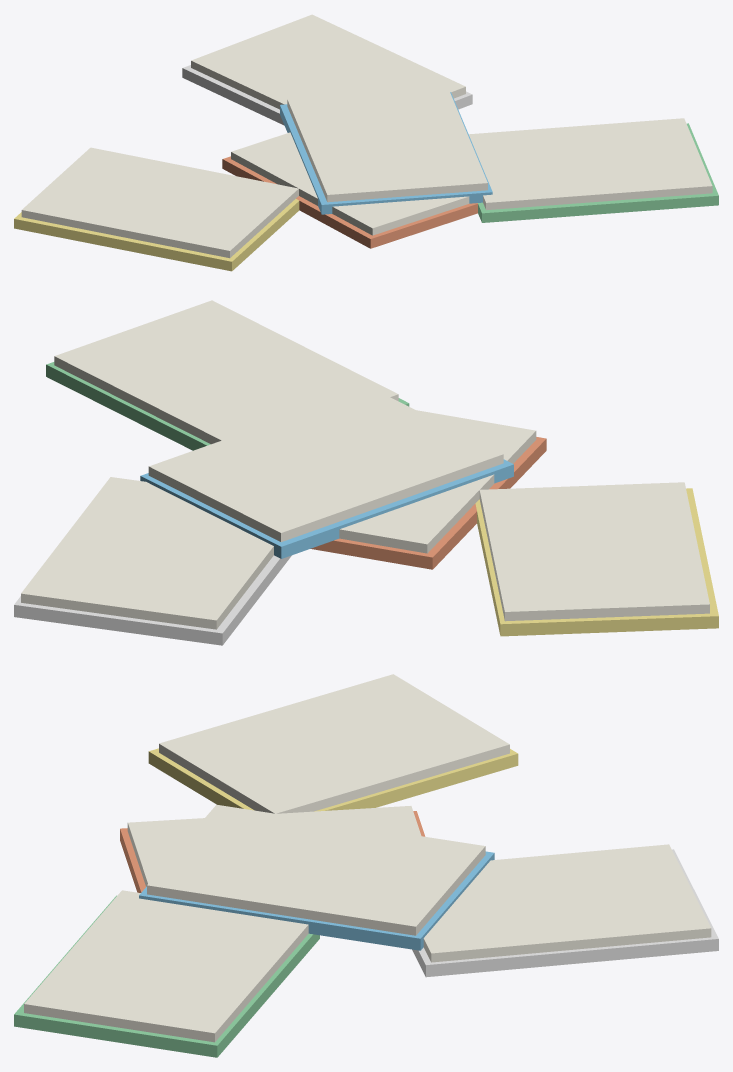
Rendered from SachTruyenTranh.glb.
3 renders of one model, top to bottom at view 1: azimuth 30°, elevation 25°; view 2: azimuth 150°, elevation 25°; view 3: azimuth 270°, elevation 25°, orthographic. The views are drawn at different scales.
Parts seen in each view (by area): view 1: SachTruyenTranh; view 2: SachTruyenTranh; view 3: SachTruyenTranh.
Boxes of the visible parts, x1,y1,x2,y2 form: SachTruyenTranh: [14, 14, 718, 271]; SachTruyenTranh: [14, 300, 718, 645]; SachTruyenTranh: [14, 674, 718, 1057].
Size of the model in its own units: 0.5217 by 0.022 by 0.4234.
